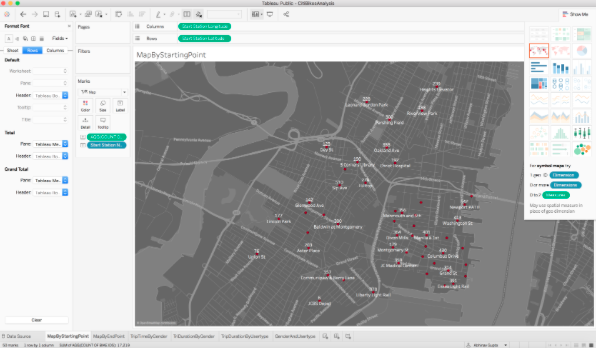

This screenshot's page, from the dashboard's own definition file:
{"tool":"tableau","page":{"name":"Dashboard 5","canvas":[1000,800],"ordinal":4},"visuals":[{"type":"title","box":[8,8,984,41]},{"type":"worksheet","title":"Start Station Map","mark":"Automatic","rows":["Start Station Latitude"],"cols":["Start Station Longitude"],"box":[14,54,976,684]},{"type":"legend","title":"Start Station Map","param":"[federated.1rd979400fdudd15h987e0bohhaj].[cnt:Start Station ID:qk]","box":[829,110,140,118]},{"type":"legend","title":"Start Station Map","param":"[federated.1rd979400fdudd15h987e0bohhaj].[cnt:Start Station ID:qk]","box":[666,112,140,76]}]}

Visuals, with their boxes on the page's 1000x800 design canvas (x1, y1, x2, y2). These are canvas units, not pixel positions in the 596x348 screenshot, which may show the page scaled, cropped or inside an application window:
title: pyautogui.locateOnScreen(8, 8, 992, 49)
"Start Station Map" worksheet: pyautogui.locateOnScreen(14, 54, 990, 738)
"Start Station Map" legend: pyautogui.locateOnScreen(829, 110, 969, 228)
"Start Station Map" legend: pyautogui.locateOnScreen(666, 112, 806, 188)
